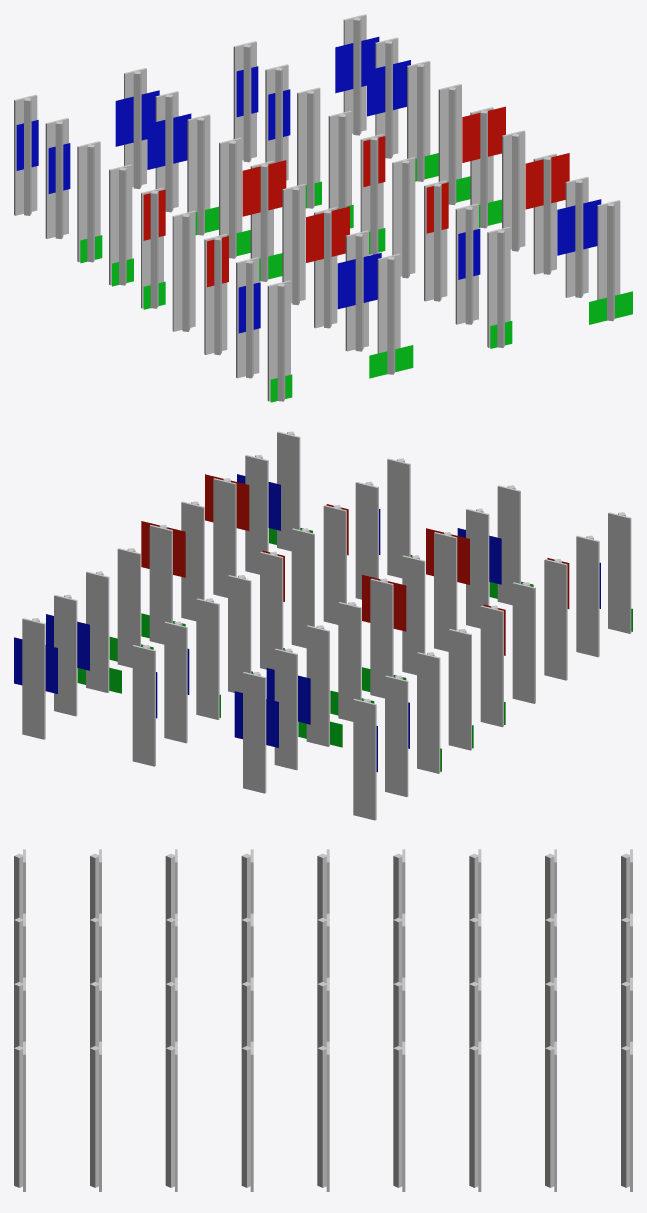
File: LOD-traffic-lights.fbx
The picture shows the model from 3 angles, top to bottom: view 1: azimuth 30°, elevation 25°; view 2: azimuth 150°, elevation 25°; view 3: azimuth 270°, elevation 25°; orthographic projection. The views are drawn at different scales.
Parts seen in each view (by area): view 1: Back_Block.007, Back_Block.015, Back_Block.019, Back_Block.011, Back_Block.025, Back_Block.001, Back_Block.003, Back_Block.021, Back_Block.002, Back_Block.023, Back_Block.024, Back_Block.028 (+90 smaller); view 2: Back_Block.005, Back_Block.027, Back_Block.031, Back_Block.036, Back_Block.006, Back_Block.029, Back_Block.001, Back_Block.007, Back_Block.033, Back_Block.025, Back_Block.034, Back_Block.035 (+34 smaller); view 3: Pillar.020, Pillar.028, Pillar.018, Pillar.024, Pillar.032, Pillar.019, Pillar.004, Pillar.036, Pillar.017, Pillar.007, Pillar.006, Pillar.021 (+28 smaller).
Part boxes in pixels (<box>): Back_Block.007: <box>172,210,195,331</box>; Back_Block.015: <box>392,157,415,276</box>; Back_Block.019: <box>502,130,525,249</box>; Back_Block.011: <box>282,184,305,303</box>; Back_Block.025: <box>77,141,100,262</box>; Back_Block.001: <box>267,280,290,401</box>; Back_Block.003: <box>487,227,510,347</box>; Back_Block.021: <box>109,164,132,285</box>; Back_Block.002: <box>377,253,400,353</box>; Back_Block.023: <box>328,110,351,208</box>; Back_Block.024: <box>438,84,461,181</box>; Back_Block.028: <box>407,60,430,158</box>; Back_Block.005: <box>576,535,599,657</box>; Back_Block.027: <box>196,598,219,719</box>; Back_Block.031: <box>164,621,187,743</box>; Back_Block.036: <box>22,618,45,739</box>; Back_Block.006: <box>544,559,567,680</box>; Back_Block.029: <box>385,675,408,796</box>; Back_Block.001: <box>608,512,631,633</box>; Back_Block.007: <box>512,582,535,703</box>; Back_Block.033: <box>353,699,376,820</box>; Back_Block.025: <box>417,652,440,773</box>; Back_Block.034: <box>243,672,266,793</box>; Back_Block.035: <box>132,645,155,766</box>; Pillar.020: <box>317,1046,327,1187</box>; Pillar.028: <box>469,1046,479,1187</box>; Pillar.018: <box>165,1046,175,1187</box>; Pillar.024: <box>393,1046,402,1187</box>; Pillar.032: <box>545,1046,555,1187</box>; Pillar.019: <box>241,1046,251,1187</box>; Pillar.004: <box>14,1046,23,1187</box>; Pillar.036: <box>621,1046,630,1187</box>; Pillar.017: <box>90,1046,99,1187</box>; Pillar.007: <box>241,853,251,919</box>; Pillar.006: <box>165,853,175,919</box>; Pillar.021: <box>393,853,403,919</box>.
Size of what is drawn, in the model's own units: 4080 by 1000 by 3300.
